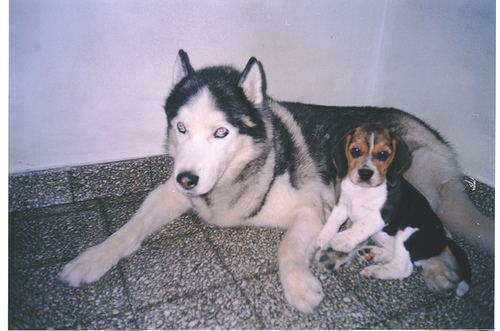dog: (57, 49, 492, 315)
